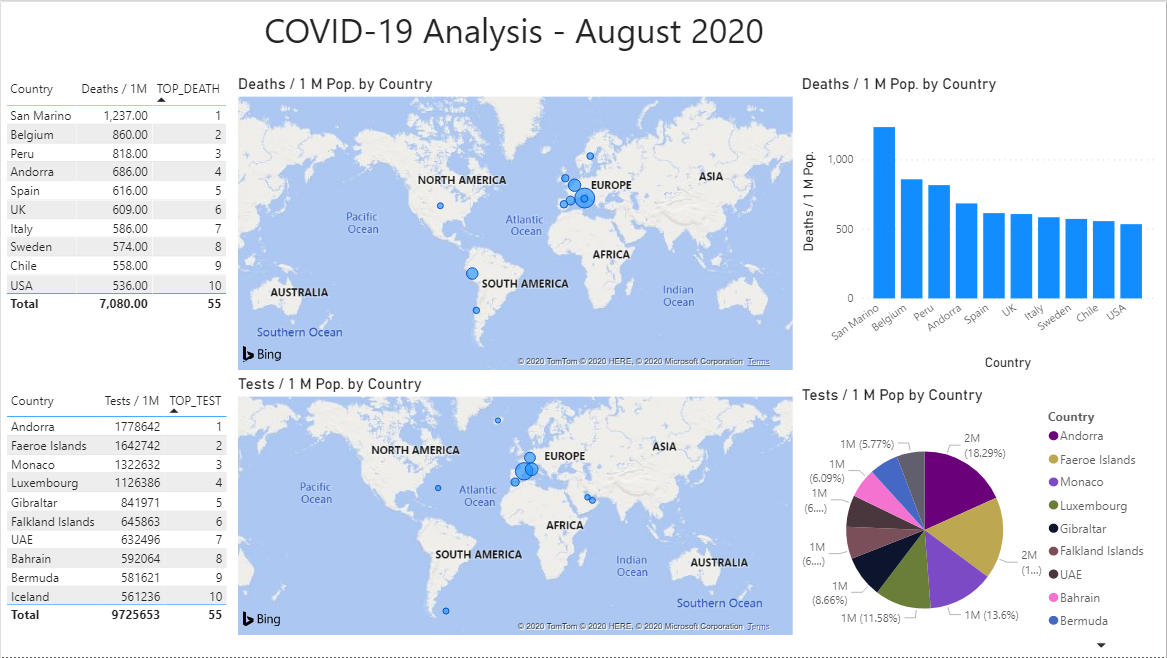

The page's visual inventory and layout, read from the dashboard file:
{"tool":"powerbi","page":{"name":"Page 1","canvas":[1280,720],"ordinal":0},"visuals":[{"type":"tableEx","fields":{"Values":["covid-output.Country","Sum(covid-output.Deaths)","Sum(covid-output.TOP_DEATH)"]},"box":[0,79.7,255.5,280.2],"z":0},{"type":"textbox","box":[284.3,0,567.2,63.2],"z":1000},{"type":"map","fields":{"Category":["covid-output.Country"],"Size":["Sum(covid-output.Deaths)"]},"box":[255.5,79.7,619.4,329.6],"z":2000},{"type":"tableEx","fields":{"Values":["covid-output.Country","Sum(covid-output.Tests)","Sum(covid-output.TOP_TEST)"]},"box":[0,421.6,255.5,278.8],"z":3000},{"type":"map","fields":{"Category":["covid-output.Country"],"Size":["Sum(covid-output.Tests)"]},"box":[255.5,409.3,619.4,291.2],"z":3001},{"type":"pieChart","fields":{"Category":["covid-output.Country"],"Y":["Sum(covid-output.Tests)"]},"box":[874.8,421.6,395.5,298],"z":3002},{"type":"columnChart","fields":{"Category":["covid-output.Country"],"Y":["Sum(covid-output.Deaths)"]},"box":[875,80,396,330],"z":3003}]}

Visuals, with their boxes in screenshot pixels (x1, y1, x2, y2), scaled from the page's 1280x720 canvas onto the 1167x658 screenshot:
tableEx - covid-output.Country x Sum(covid-output.Deaths): (left=0, top=73, right=233, bottom=329)
textbox: (left=259, top=0, right=776, bottom=58)
map - covid-output.Country x Sum(covid-output.Deaths): (left=233, top=73, right=798, bottom=374)
tableEx - covid-output.Country x Sum(covid-output.Tests): (left=0, top=385, right=233, bottom=640)
map - covid-output.Country x Sum(covid-output.Tests): (left=233, top=374, right=798, bottom=640)
pieChart - covid-output.Country x Sum(covid-output.Tests): (left=798, top=385, right=1158, bottom=657)
columnChart - covid-output.Country x Sum(covid-output.Deaths): (left=798, top=73, right=1159, bottom=375)
